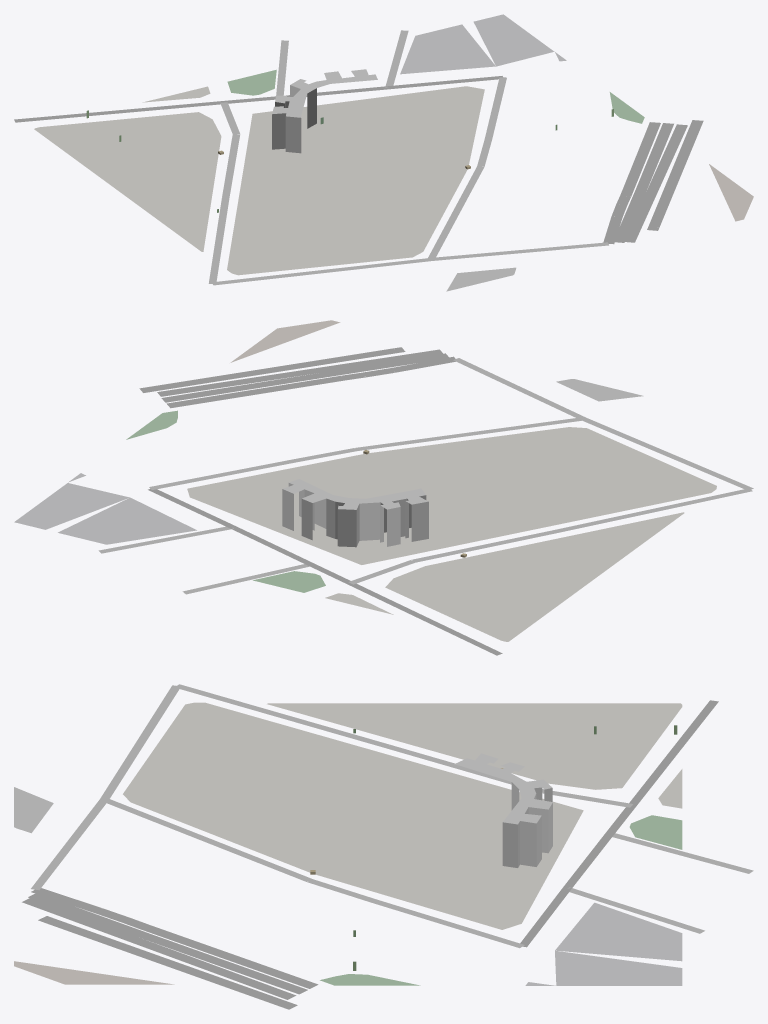
3 renders of one model, top to bottom at view 1: azimuth 30°, elevation 25°; view 2: azimuth 150°, elevation 25°; view 3: azimuth 270°, elevation 25°, orthographic. The views are drawn at different scales.
Bounding box in the file's own units: 574 × 37.28 × 554.
